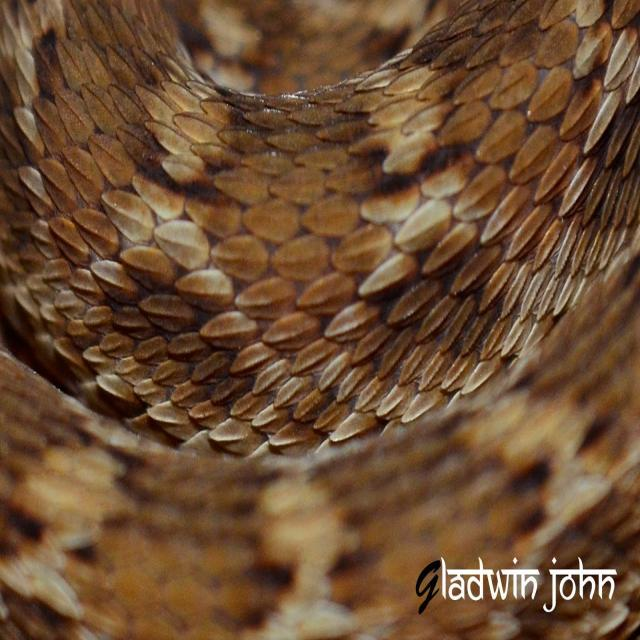Snake: (1, 0, 638, 463)
